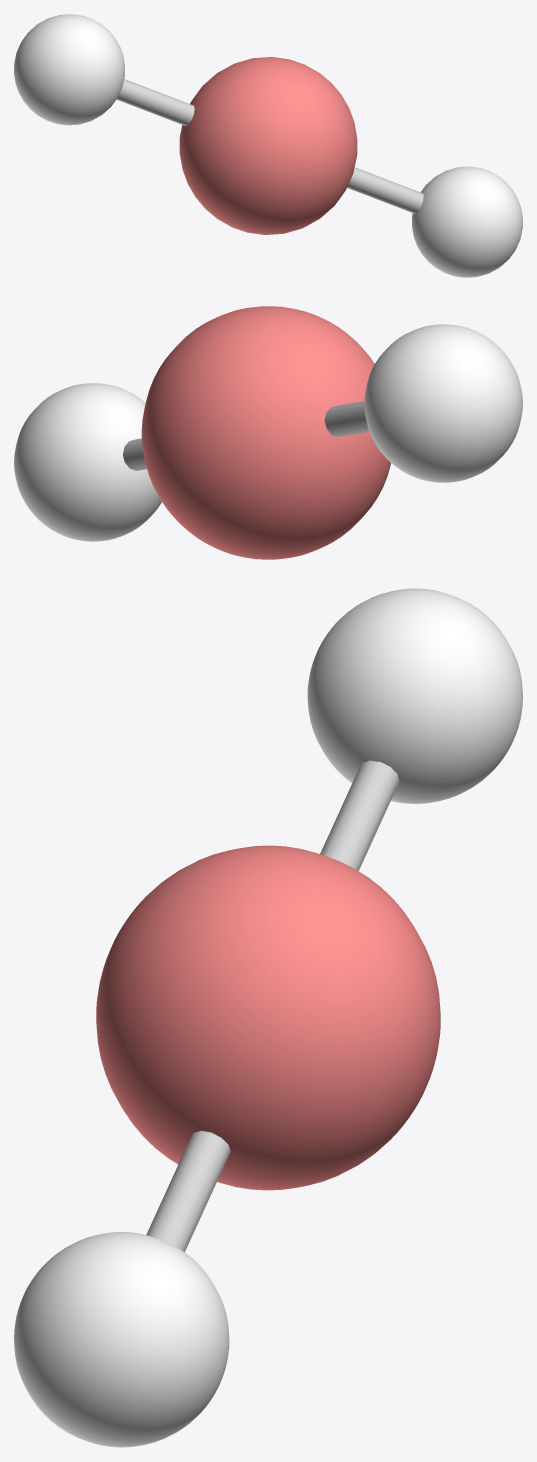
3 renders of one model, top to bottom at view 1: azimuth 30°, elevation 25°; view 2: azimuth 150°, elevation 25°; view 3: azimuth 270°, elevation 25°, orthographic. The views are drawn at different scales.
Parts seen in each view (by area): view 1: Oxygen, Hydrogen2, Hydrogen1, Bond2, Bond1; view 2: Oxygen, Hydrogen2, Hydrogen1, Bond2, Bond1; view 3: Oxygen, Hydrogen1, Hydrogen2, Bond1, Bond2.
Boxes of the visible parts, x1=… form: Oxygen: x1=179, y1=57, x2=357, y2=234; Hydrogen2: x1=14, y1=14, x2=124, y2=125; Hydrogen1: x1=412, y1=166, x2=522, y2=277; Bond2: x1=116, y1=79, x2=194, y2=125; Bond1: x1=347, y1=167, x2=423, y2=213; Oxygen: x1=141, y1=306, x2=390, y2=559; Hydrogen2: x1=364, y1=324, x2=522, y2=482; Hydrogen1: x1=14, y1=383, x2=161, y2=541; Bond2: x1=324, y1=401, x2=369, y2=436; Bond1: x1=123, y1=438, x2=146, y2=470; Oxygen: x1=96, y1=845, x2=440, y2=1190; Hydrogen1: x1=14, y1=1232, x2=229, y2=1447; Hydrogen2: x1=307, y1=588, x2=522, y2=803; Bond1: x1=146, y1=1130, x2=230, y2=1251; Bond2: x1=320, y1=760, x2=399, y2=870.
Bounding box in the file's own units: 4.33 × 2.74 × 2.36.
